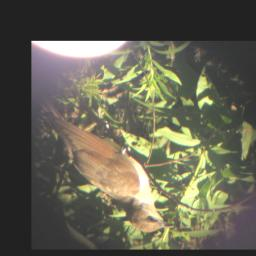Cuckoo: (36, 93, 175, 233)
